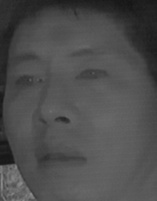eye: (75, 64, 109, 87), (11, 73, 41, 92)
mouth: (34, 141, 90, 173)
